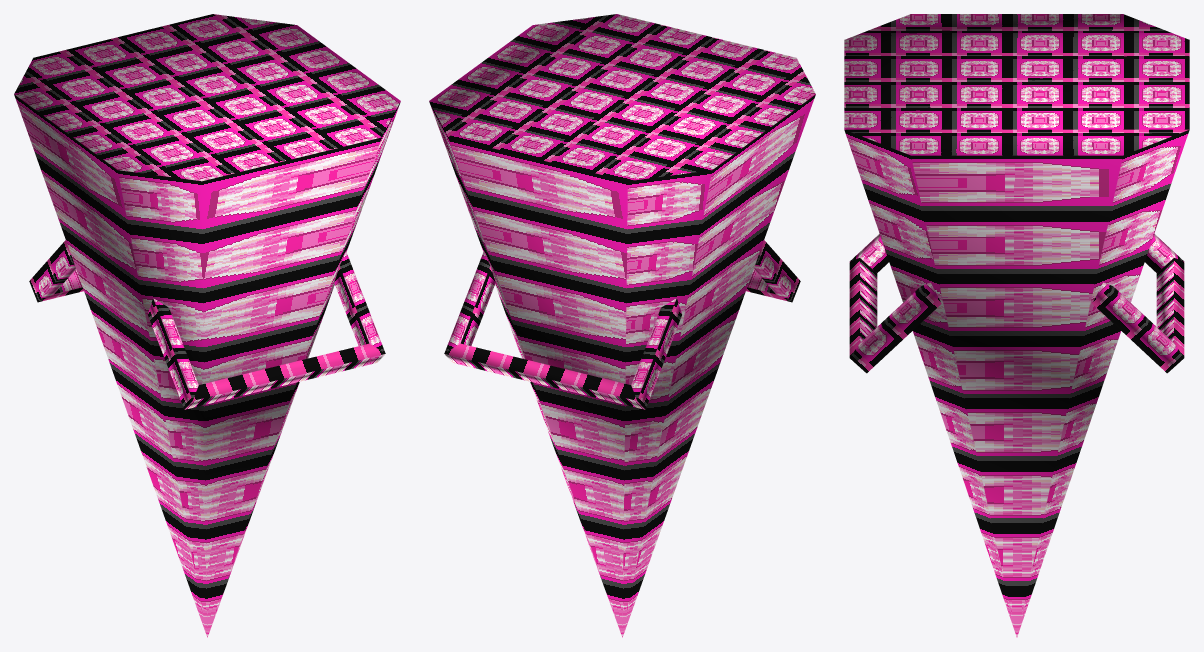
3 views of the same model, side by side, from view 1: azimuth 30°, elevation 25°; view 2: azimuth 150°, elevation 25°; view 3: azimuth 270°, elevation 25° (orthographic). The views are drawn at different scales.
Visible parts, largest first — view 1: 3676kg_gl_ta0; view 2: 3676kg_gl_ta0; view 3: 3676kg_gl_ta0.
Boxes of the visible parts, x1,y1,x2,y2 form: 3676kg_gl_ta0: [14, 14, 400, 637]; 3676kg_gl_ta0: [429, 14, 815, 637]; 3676kg_gl_ta0: [844, 14, 1189, 637].
Bounding box in the file's own units: 0.9468 × 1.73 × 0.9766.
1 material, 1 textured.
